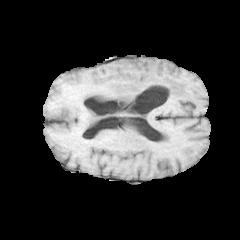glioma: (49, 67, 190, 124)
